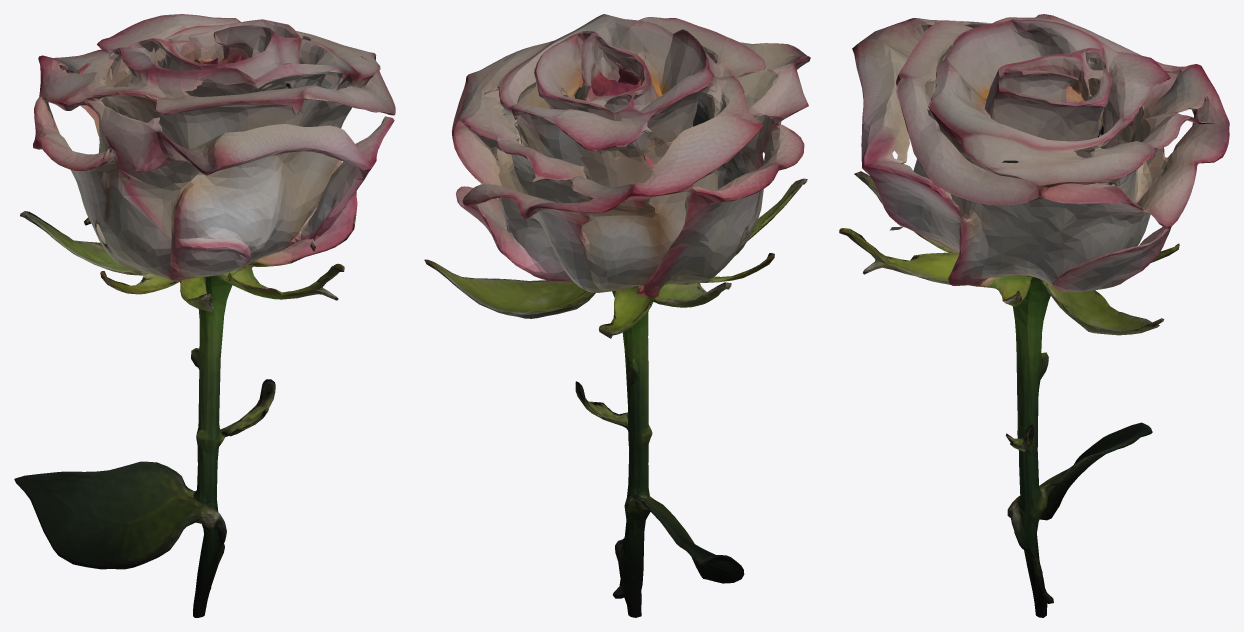
The picture shows the model from 3 angles, left to right: view 1: azimuth 30°, elevation 25°; view 2: azimuth 150°, elevation 25°; view 3: azimuth 270°, elevation 25°; orthographic projection. The views are drawn at different scales.
Parts seen in each view (by area): view 1: world; view 2: world; view 3: world.
Part boxes in pixels (x1,y1,x2,y2): world: (14,14,395,617); world: (424,14,810,617); world: (839,14,1229,617).
Bounding box in the file's own units: 0.5938 × 0.99 × 0.6099.
Materials: 1 (1 with a texture image).
